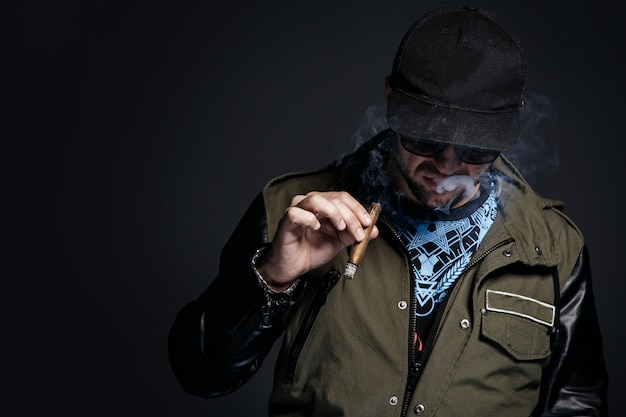cigarette: (343, 200, 384, 281)
